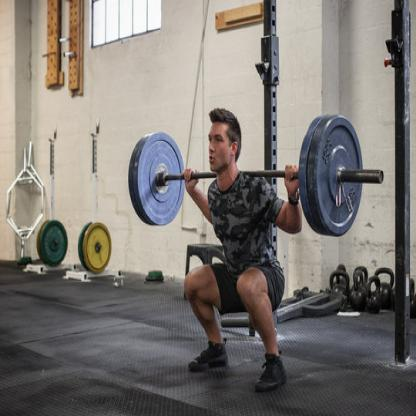Barbell: (296, 107, 388, 240)
